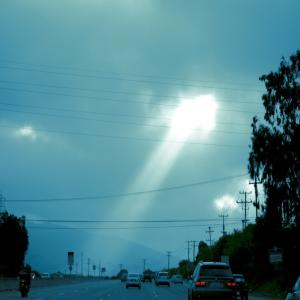Vehicle-registration-plate: (213, 282, 221, 288), (239, 293, 241, 296)
